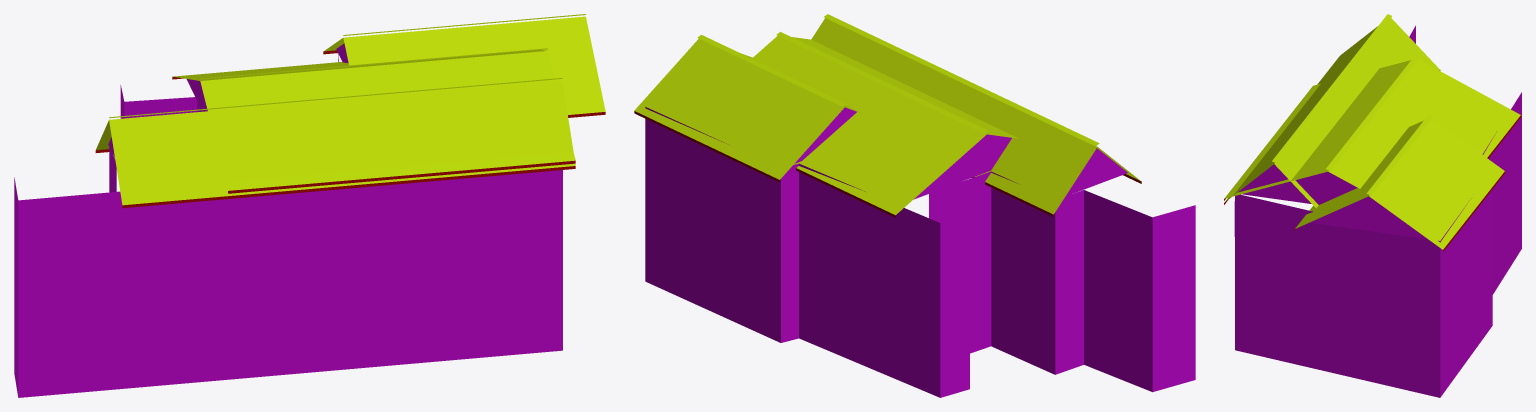
The model's file is btm_25.glb.
The picture shows the model from 3 angles, left to right: view 1: azimuth 30°, elevation 25°; view 2: azimuth 150°, elevation 25°; view 3: azimuth 270°, elevation 25°; orthographic projection. The views are drawn at different scales.
Parts seen in each view (by area): view 1: btm_25; view 2: btm_25; view 3: btm_25.
Boxes of the visible parts, box(x1,y1,x2,y2) form: btm_25: box(14, 14, 605, 397); btm_25: box(634, 14, 1195, 397); btm_25: box(1224, 14, 1521, 397).
Bounding box in the file's own units: 25.45 × 10.25 × 13.98.
